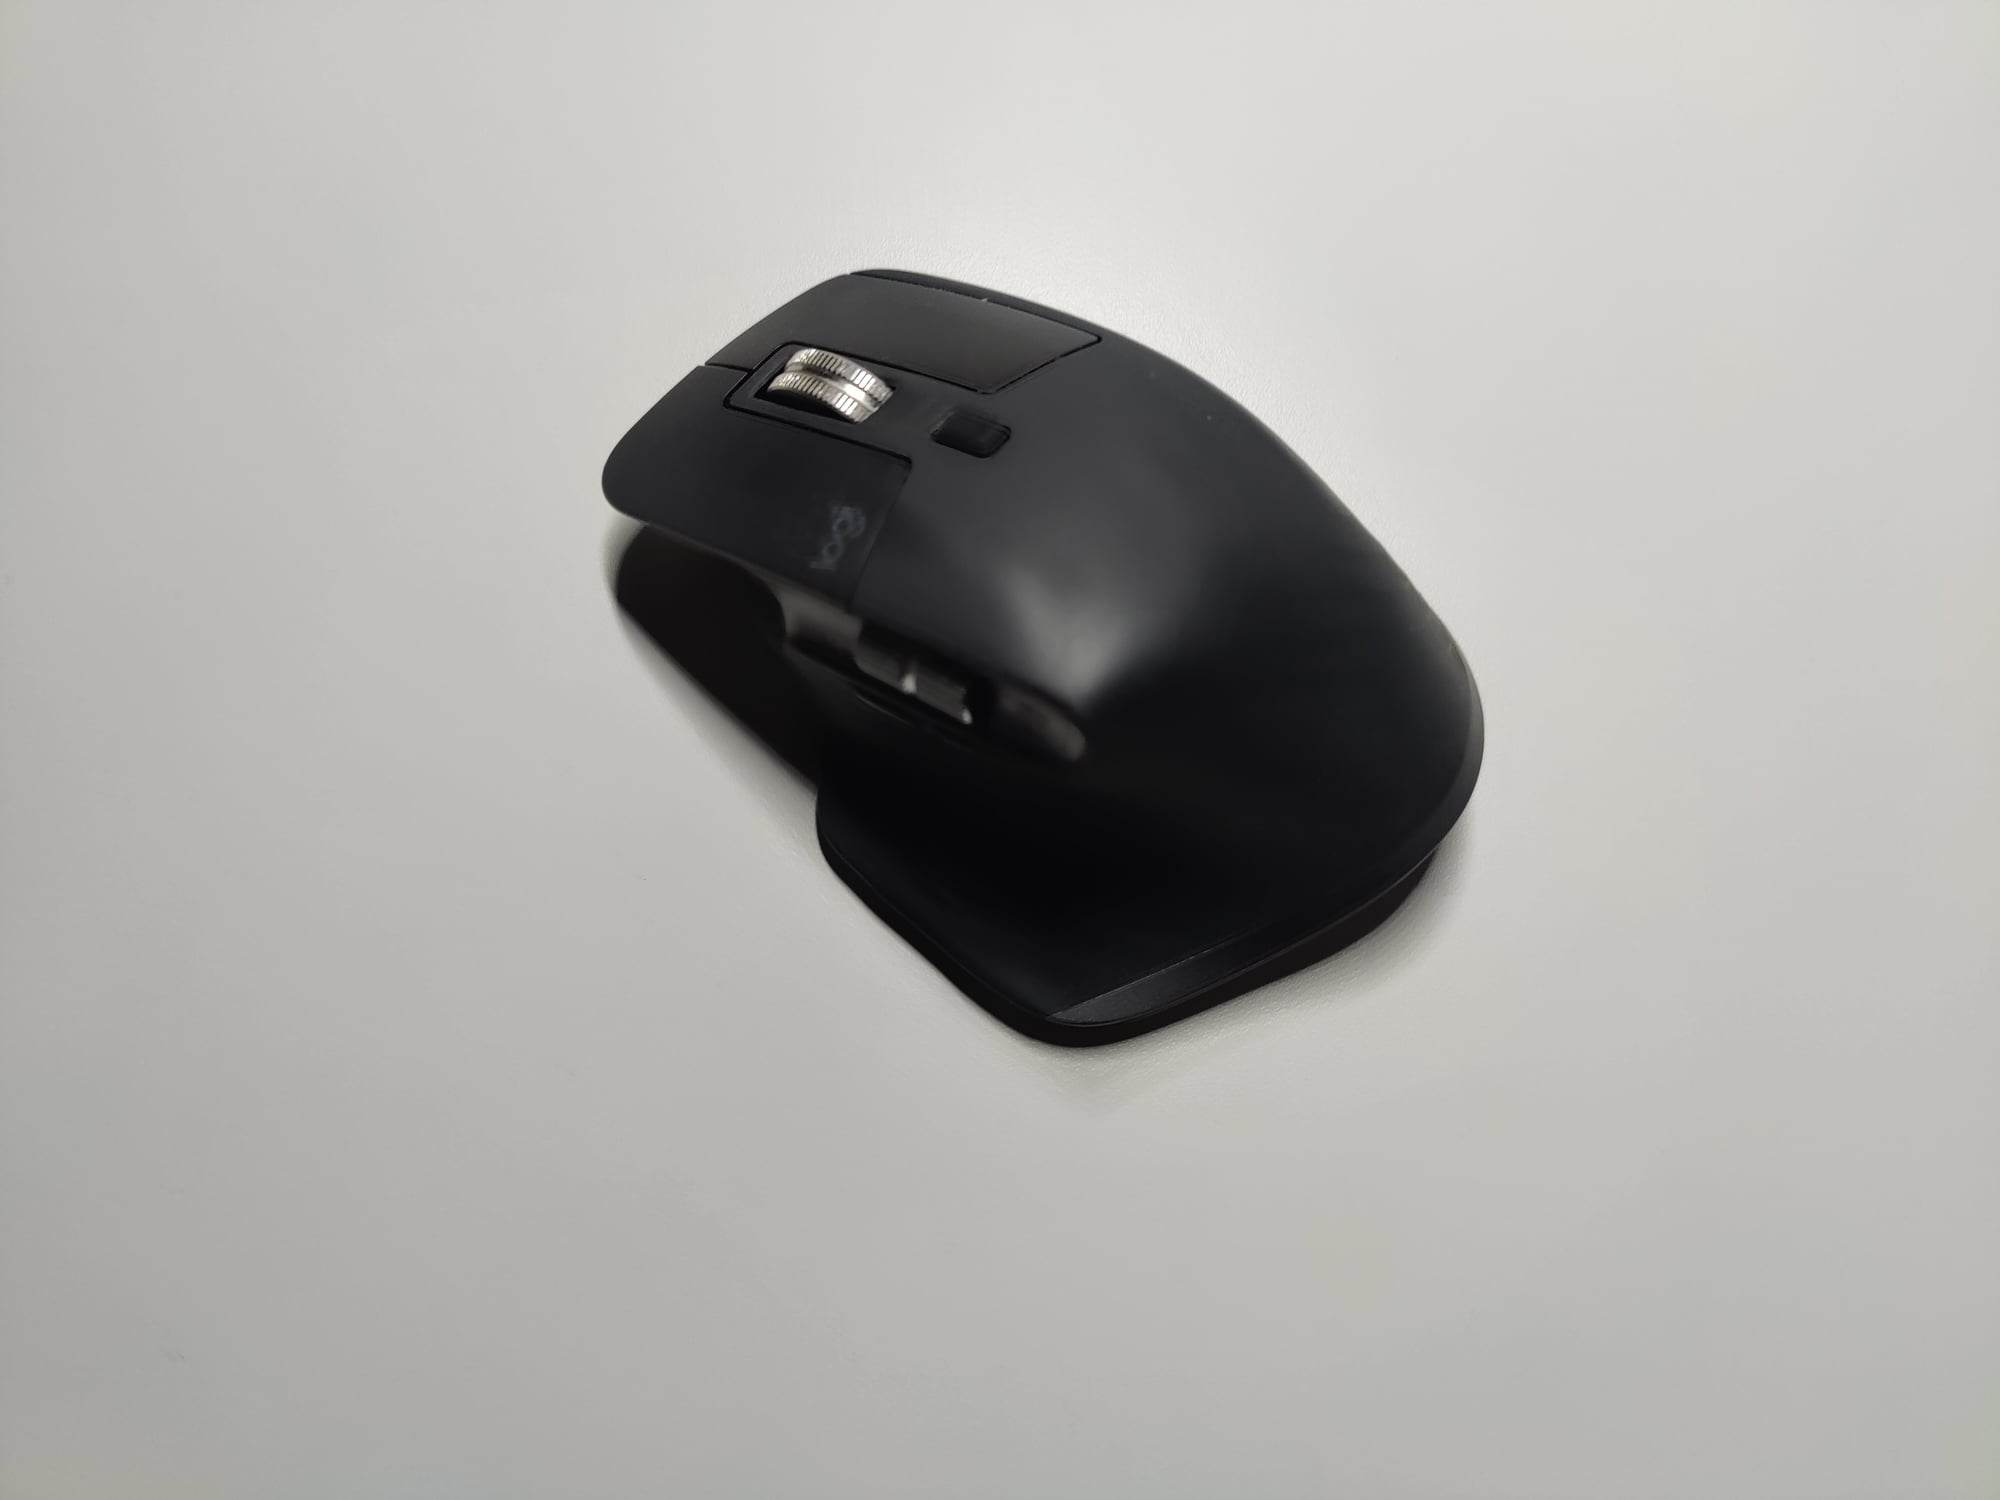Muis: (501, 195, 1581, 1117)
